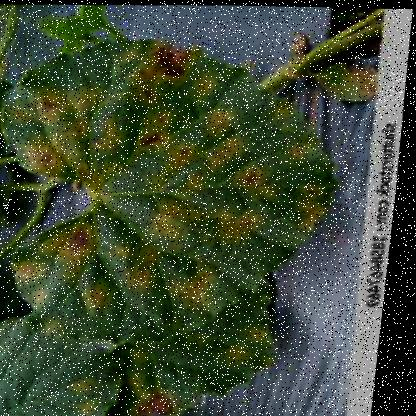DownyMildew: (137, 114, 284, 279), (7, 68, 154, 195), (42, 214, 125, 305)
